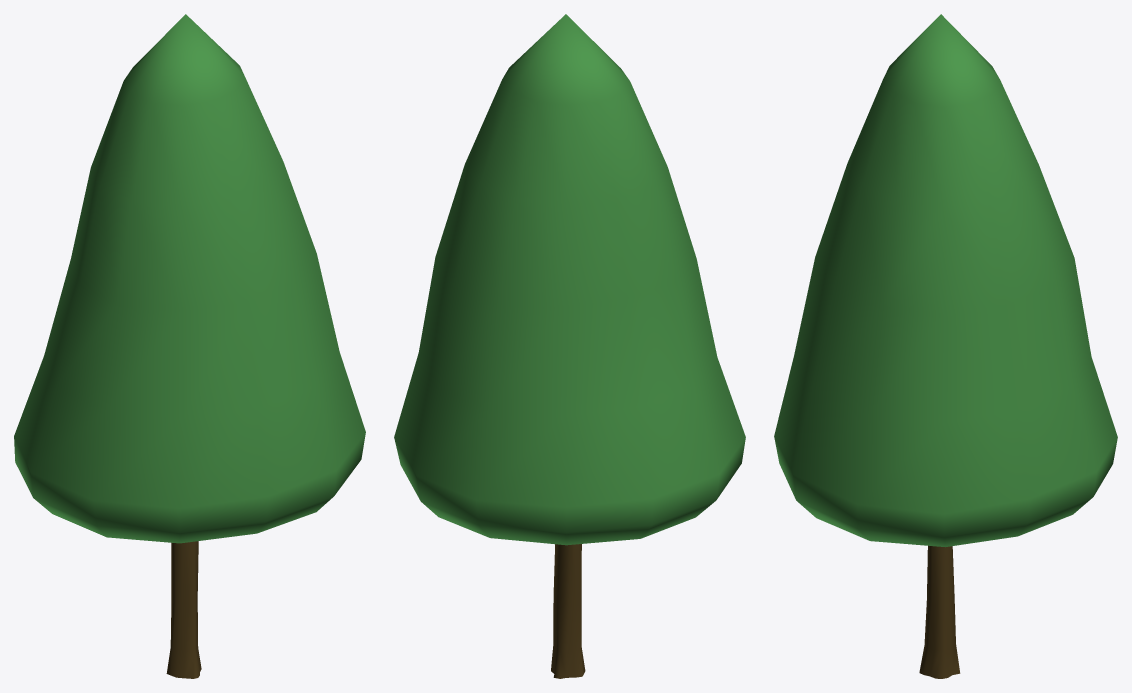
File: Plant_mode_LOD1_Tree003.fbx
The picture shows the model from 3 angles, left to right: view 1: azimuth 30°, elevation 25°; view 2: azimuth 150°, elevation 25°; view 3: azimuth 270°, elevation 25°; orthographic projection.
Parts seen in each view (by area): view 1: Plant_mode_LOD1_Tree003; view 2: Plant_mode_LOD1_Tree003; view 3: Plant_mode_LOD1_Tree003.
Boxes of the visible parts, x1,y1,x2,y2 form: Plant_mode_LOD1_Tree003: (14, 14, 365, 678); Plant_mode_LOD1_Tree003: (394, 14, 745, 678); Plant_mode_LOD1_Tree003: (774, 14, 1117, 678).
Size of the model in its own units: 3.28 by 6.59 by 3.12.
